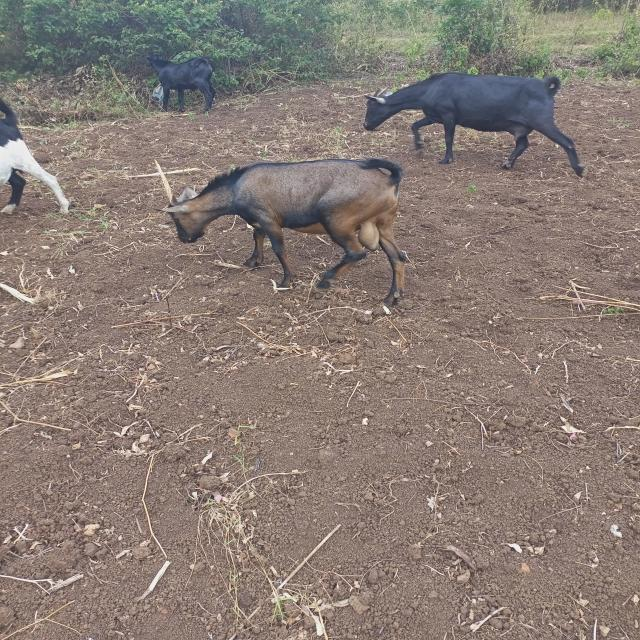goat: (110, 118, 444, 341)
